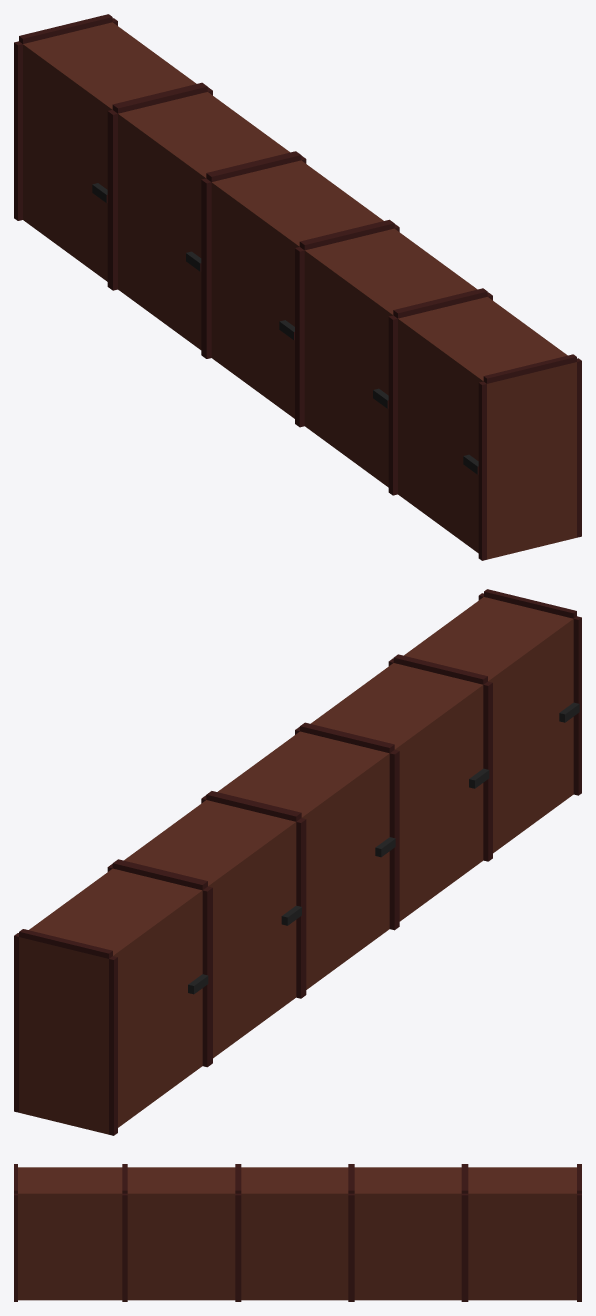
Rendered from yes.fbx.
3 renders of one model, top to bottom at view 1: azimuth 30°, elevation 25°; view 2: azimuth 150°, elevation 25°; view 3: azimuth 270°, elevation 25°, orthographic. The views are drawn at different scales.
Visible parts, largest first — view 1: Cube; view 2: Cube; view 3: Cube.
Part boxes in pixels (box(x1,y1,x2,y2)): Cube: box(14, 14, 581, 560); Cube: box(14, 589, 581, 1135); Cube: box(14, 1164, 581, 1301).
Bounding box in the file's own units: 225 × 385 × 1807.
